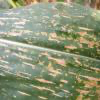Corn leaf blight: (1, 5, 100, 99)
